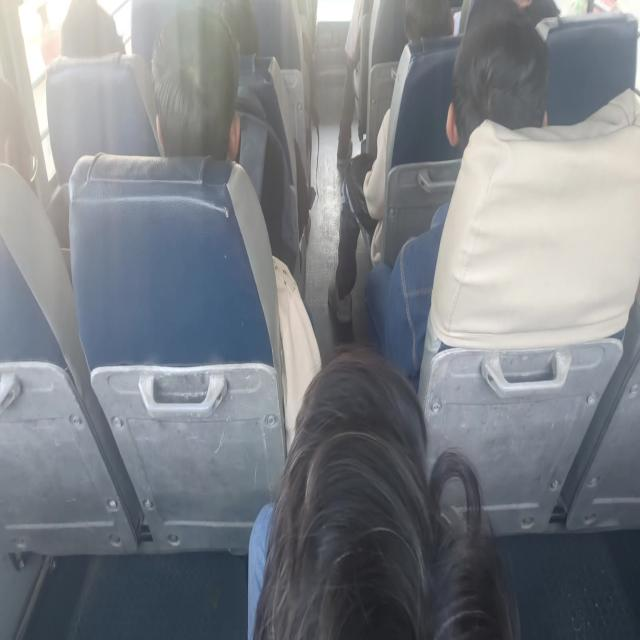person: (247, 343, 519, 638), (149, 6, 322, 452), (364, 11, 549, 385), (328, 0, 456, 332), (149, 6, 242, 162), (59, 0, 126, 58)
